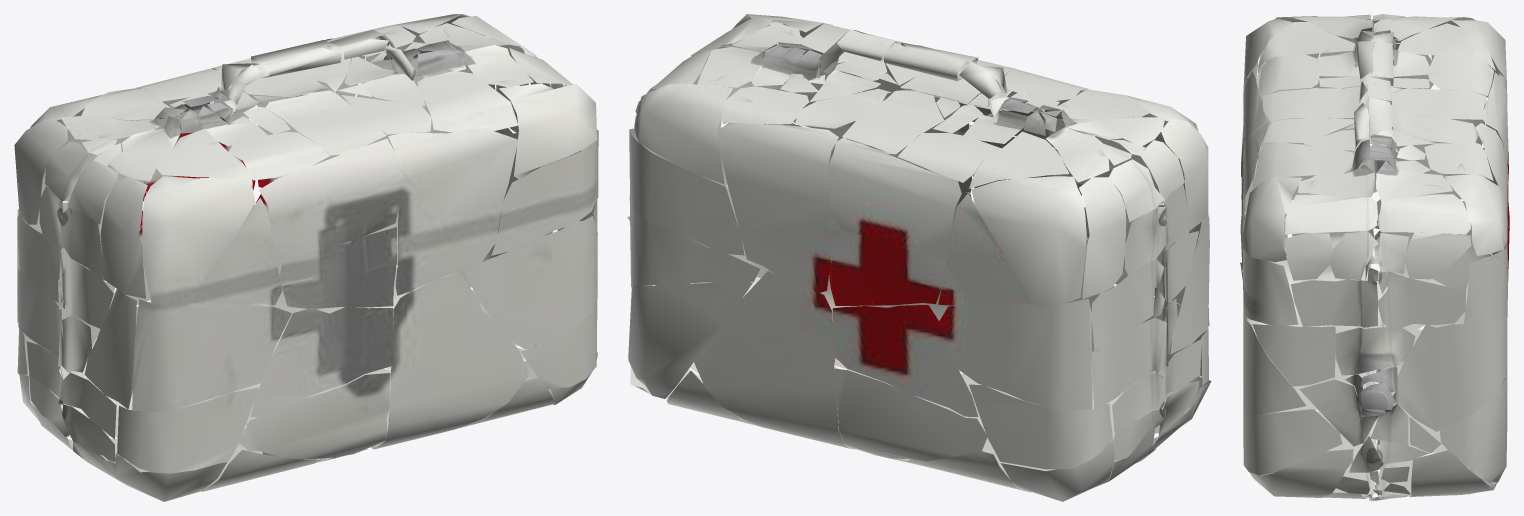
File: medkit.glb
The picture shows the model from 3 angles, left to right: view 1: azimuth 30°, elevation 25°; view 2: azimuth 150°, elevation 25°; view 3: azimuth 270°, elevation 25°; orthographic projection. The views are drawn at different scales.
Visible parts, largest first — view 1: Mesh_0; view 2: Mesh_0; view 3: Mesh_0.
Boxes of the visible parts, <box> form: Mesh_0: <box>14,14,598,501</box>; Mesh_0: <box>627,14,1211,501</box>; Mesh_0: <box>1240,14,1509,501</box>.
Size of the model in its own units: 1.91 by 1.27 by 0.8845.
Materials: 1 (1 with a texture image).
